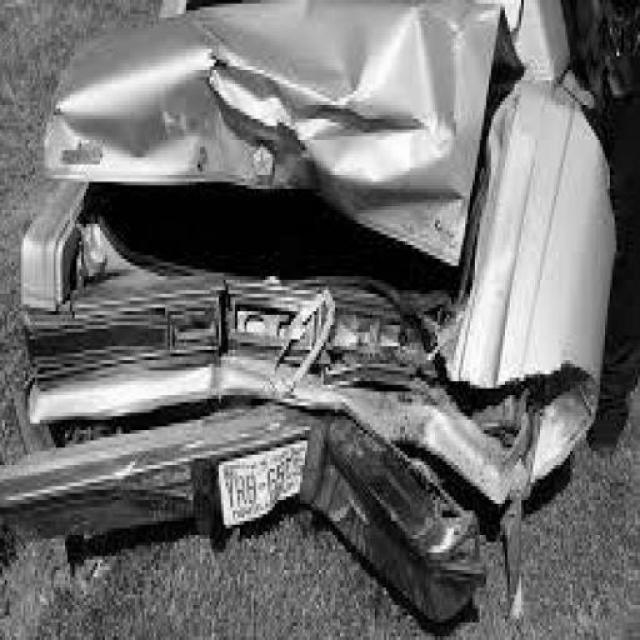crush: (31, 4, 591, 629)
